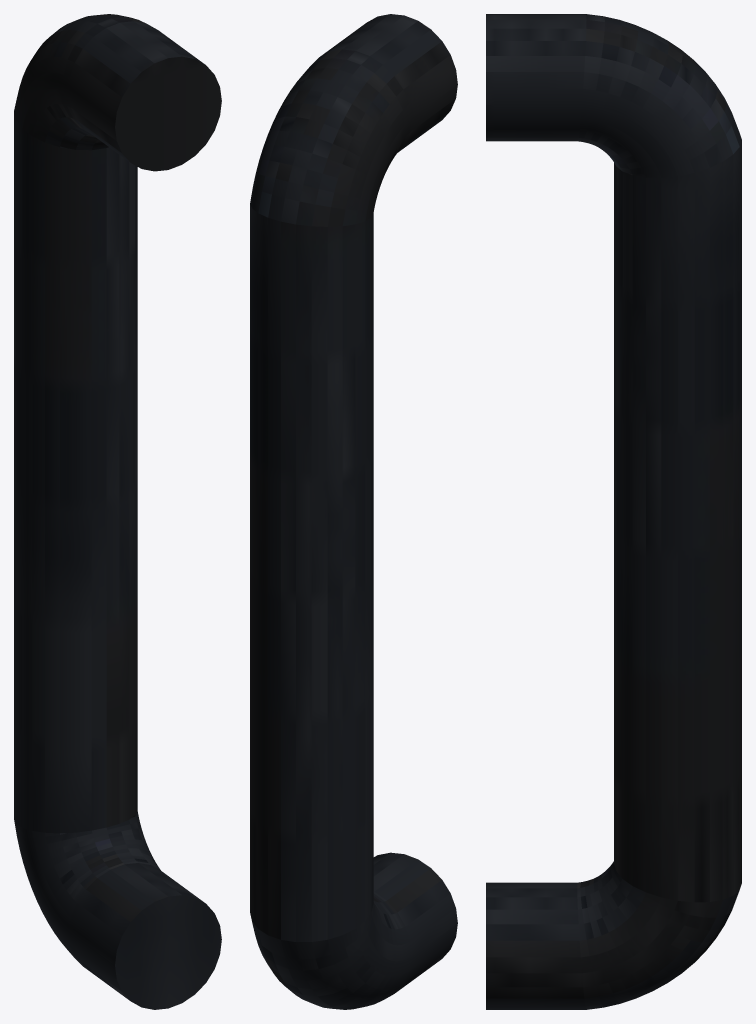
File: original-5.obj
3 renders of one model, left to right at view 1: azimuth 30°, elevation 25°; view 2: azimuth 150°, elevation 25°; view 3: azimuth 270°, elevation 25°, orthographic. The views are drawn at different scales.
Visible parts, largest first — view 1: Group5/mesh3/mesh3-geometry#mesh3-geometry; view 2: Group5/mesh3/mesh3-geometry#mesh3-geometry; view 3: Group5/mesh3/mesh3-geometry#mesh3-geometry.
Boxes of the visible parts, <box> form: Group5/mesh3/mesh3-geometry#mesh3-geometry: <box>14,14,221,1009</box>; Group5/mesh3/mesh3-geometry#mesh3-geometry: <box>250,14,457,1009</box>; Group5/mesh3/mesh3-geometry#mesh3-geometry: <box>486,14,741,1009</box>.
Bounding box in the file's own units: 0.0176 × 0.1496 × 0.0352.
